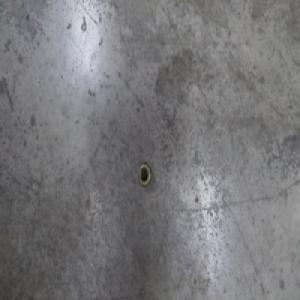Nut: (137, 162, 151, 189)
